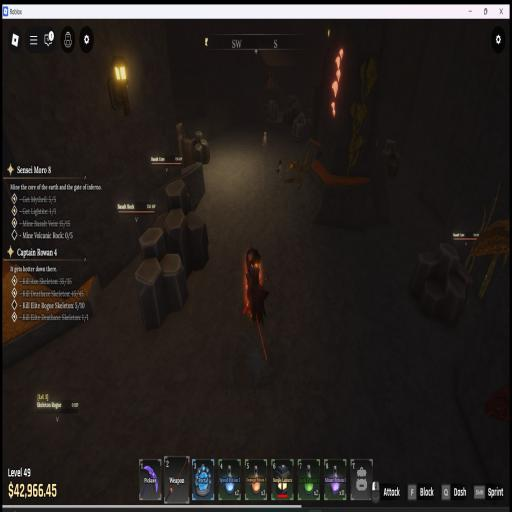player: (243, 245, 269, 336)
rock: (409, 243, 472, 324), (153, 209, 192, 276), (135, 257, 167, 329), (160, 254, 188, 312), (186, 212, 209, 270), (165, 180, 190, 215), (139, 228, 166, 260), (176, 123, 196, 166), (383, 140, 400, 176), (194, 131, 210, 163), (284, 95, 301, 124), (292, 112, 305, 137), (268, 100, 277, 121)
